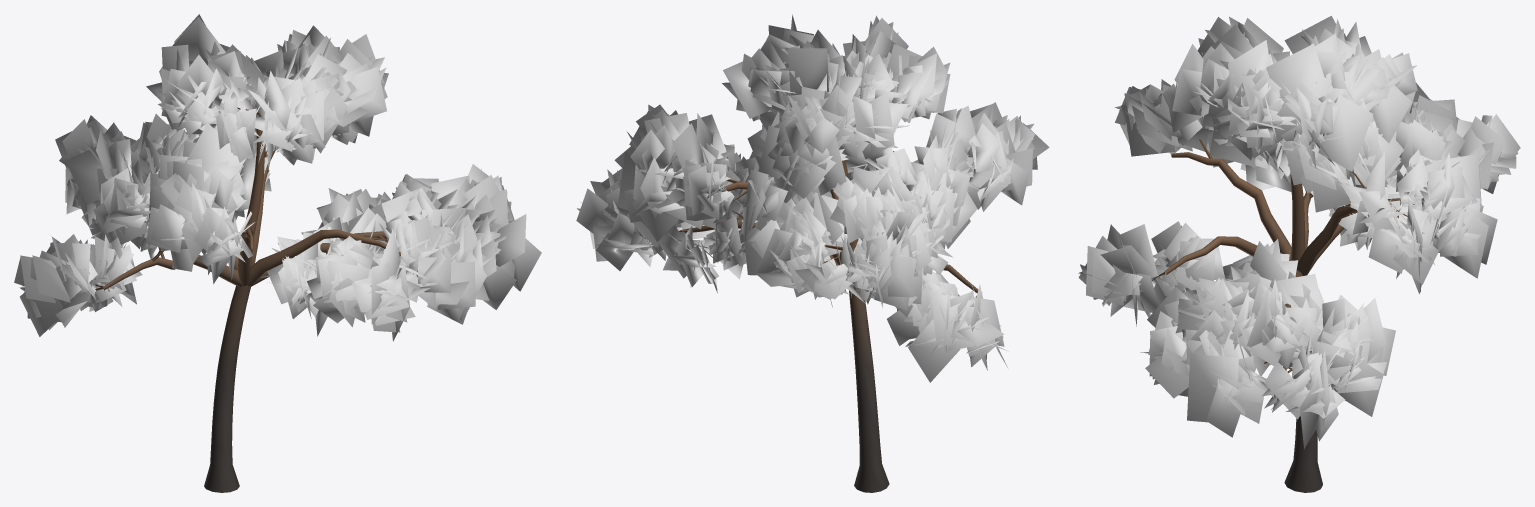
3 renders of one model, left to right at view 1: azimuth 30°, elevation 25°; view 2: azimuth 150°, elevation 25°; view 3: azimuth 270°, elevation 25°, orthographic. The views are drawn at different scales.
Parts seen in each view (by area): view 1: crown, trunk; view 2: crown, trunk; view 3: crown, trunk.
Boxes of the visible parts, left/top/right/bottom form: crown: left=14, top=14, right=541, bottom=341; trunk: left=95, top=107, right=400, bottom=492; crown: left=576, top=14, right=1049, bottom=382; trunk: left=679, top=160, right=978, bottom=492; crown: left=1078, top=16, right=1520, bottom=449; trunk: left=1152, top=130, right=1407, bottom=492.
Bounding box in the file's own units: 12.84 × 11.26 × 9.64.
